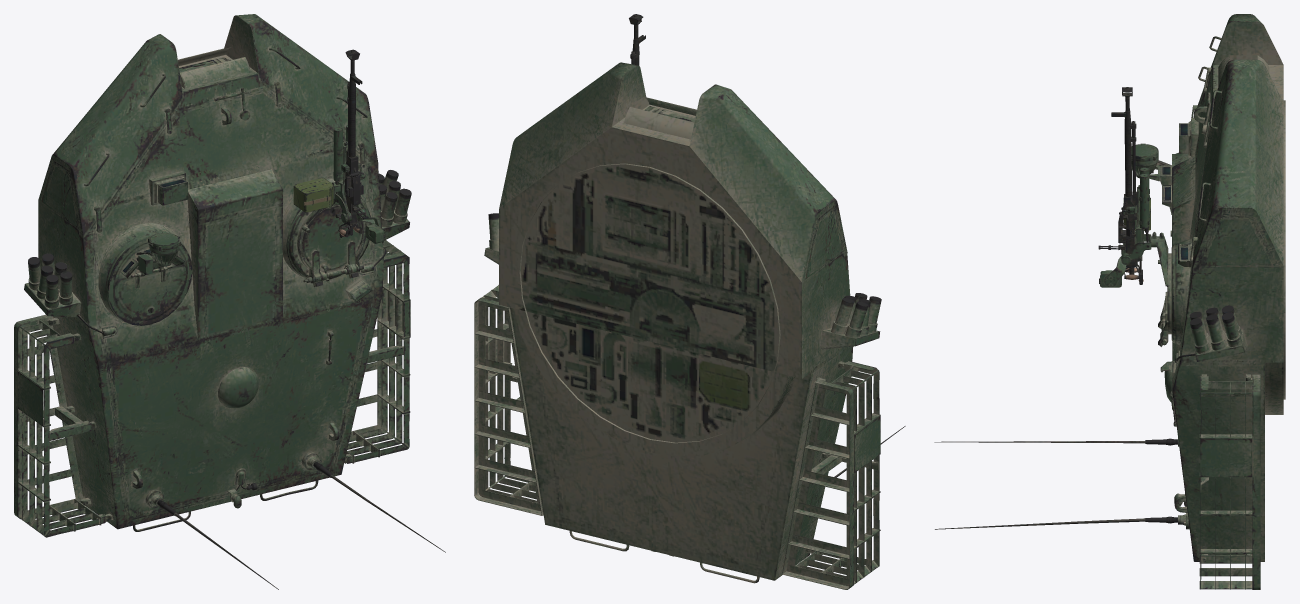
Rendered from Turret_01.glb.
3 renders of one model, left to right at view 1: azimuth 30°, elevation 25°; view 2: azimuth 150°, elevation 25°; view 3: azimuth 270°, elevation 25°, orthographic. The views are drawn at different scales.
Parts seen in each view (by area): view 1: set_0_group_0; view 2: set_0_group_0; view 3: set_0_group_0.
Boxes of the visible parts, <box> form: set_0_group_0: <box>14,14,445,589</box>; set_0_group_0: <box>474,14,905,589</box>; set_0_group_0: <box>934,14,1285,589</box>.
Size of the model in its own units: 3.31 by 4 by 2.67.
Materials: 1 (1 with a texture image).
